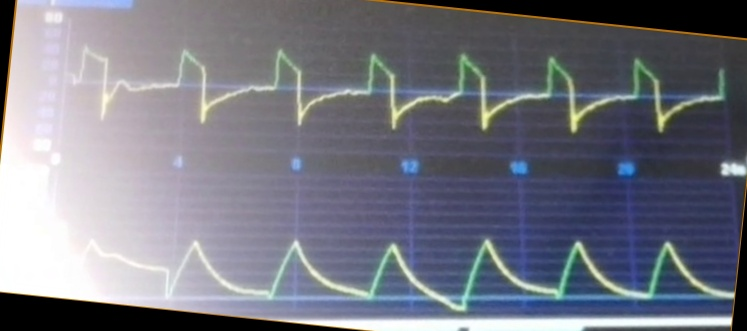Premature_cycling Flow: (68, 41, 726, 148)
Premature_cycling Volume: (71, 234, 730, 314)
